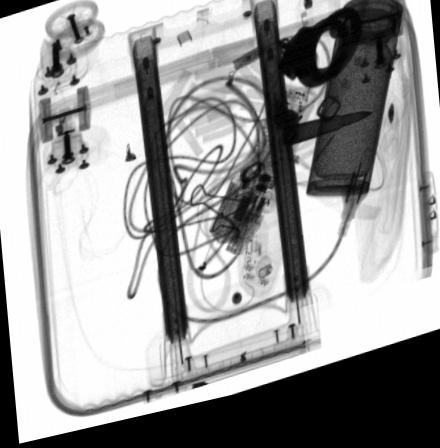Bullet: (283, 128, 372, 161)
HandCuffs: (278, 24, 361, 104)
